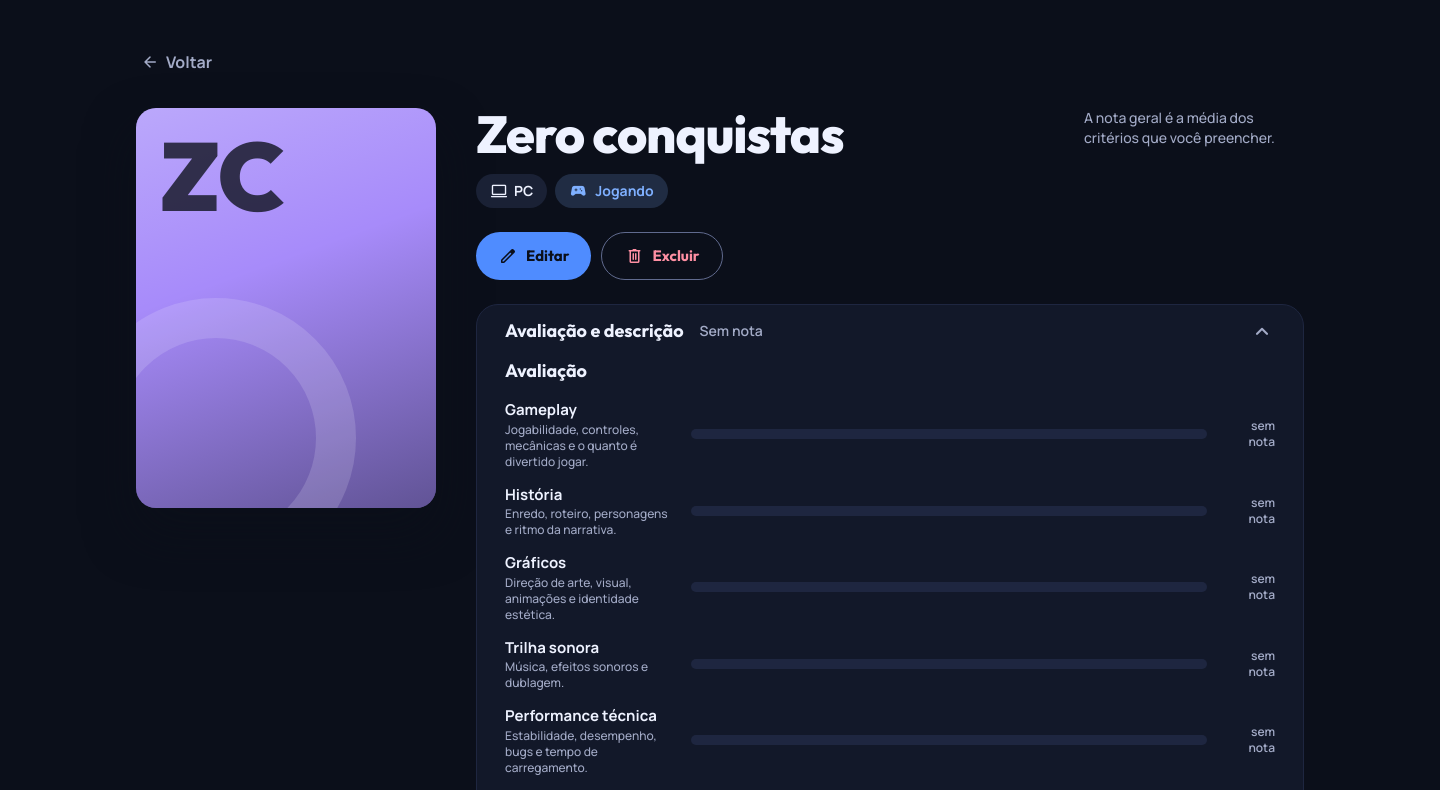
Test: detalhe de cada jogo "feio" › o jogo 1 abre, mostra o título como texto e o Editar abre e fecha o formulário
Expected: the heading "Zero conquistas" is shown, 476,108 -> 844,160
Click the button "Editar" at (534, 256), box 476,232 -> 591,280
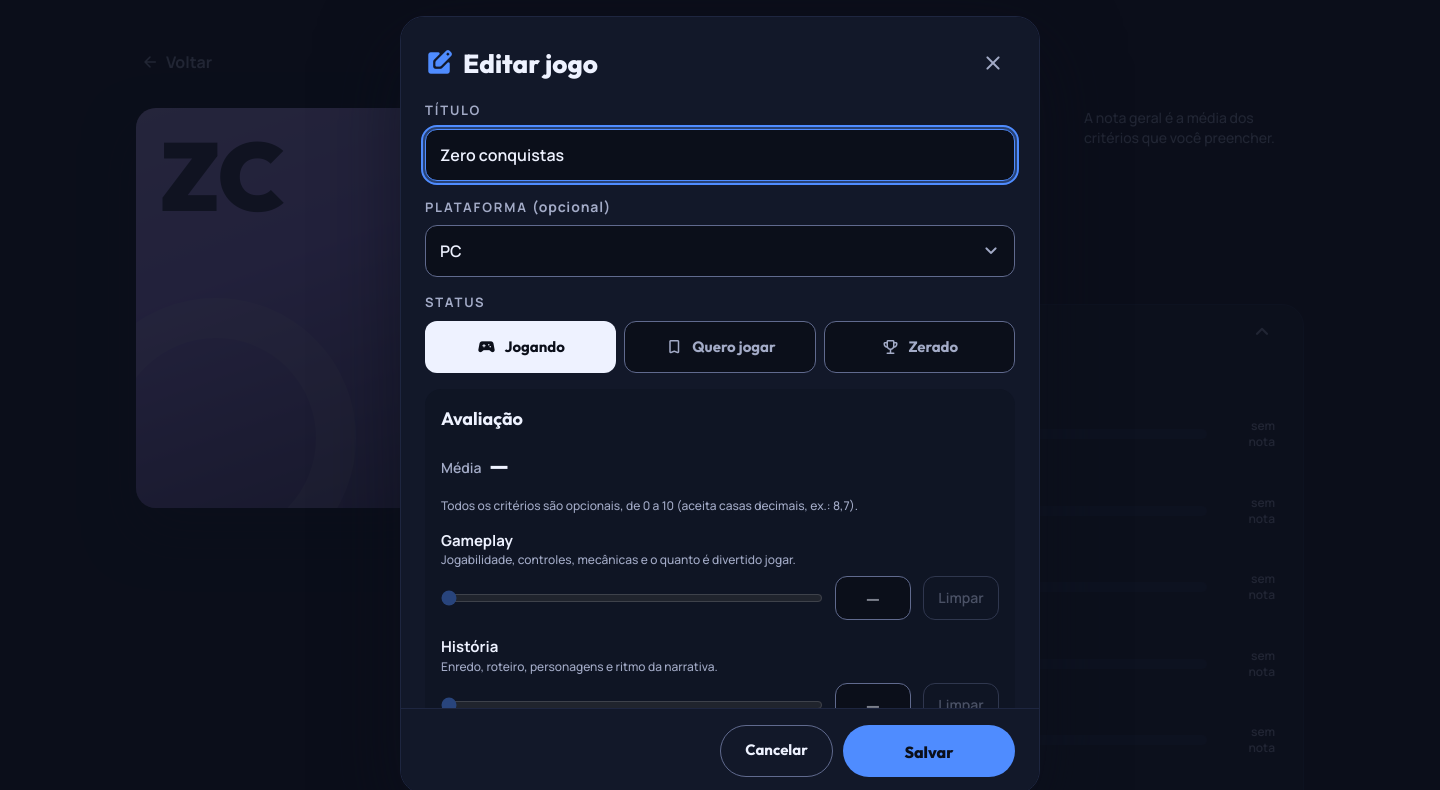
Now the heading "Editar jogo" is shown, box 425,44 -> 598,82
Click the button "Cancelar" at (777, 751), box 720,725 -> 833,777
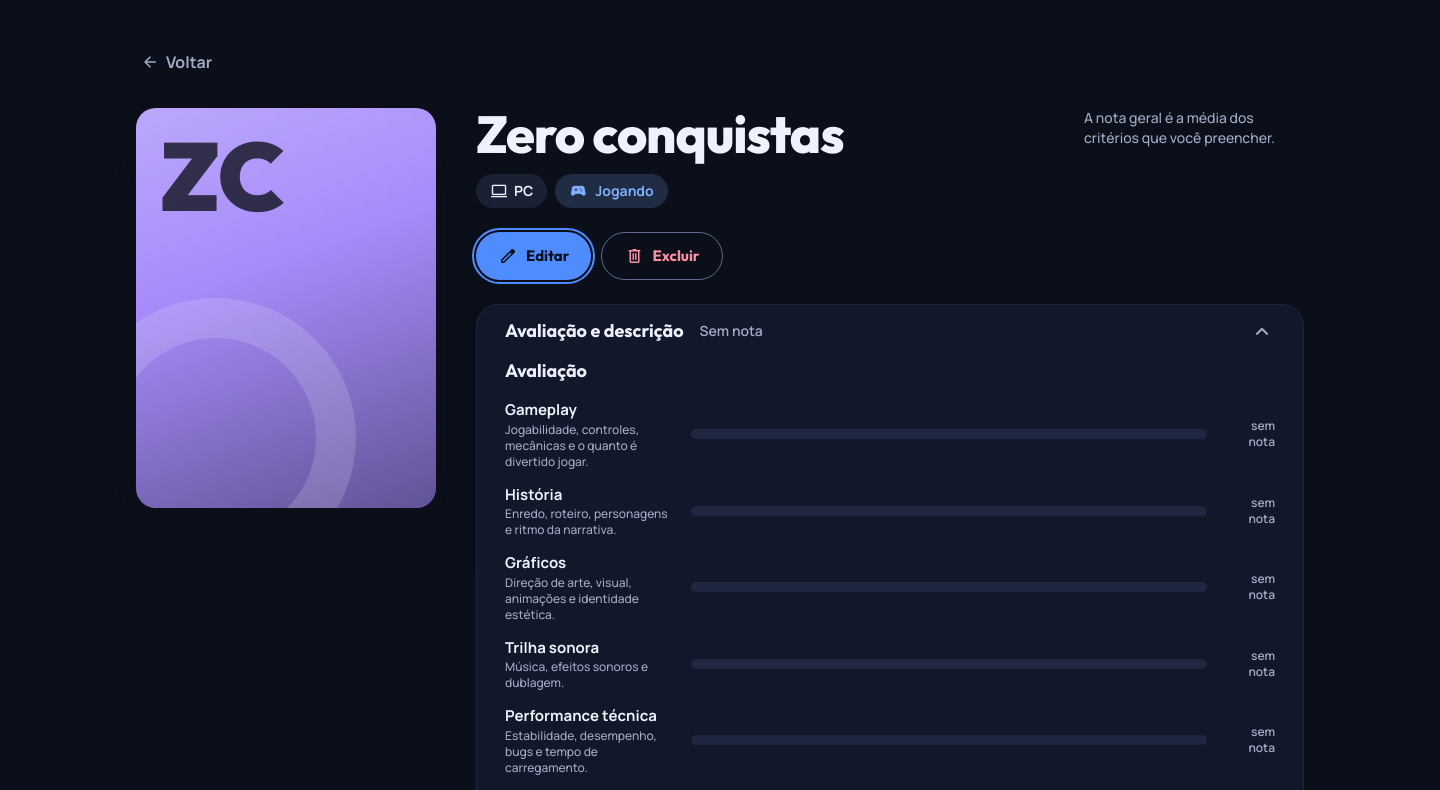
Now the heading "Editar jogo" is gone
